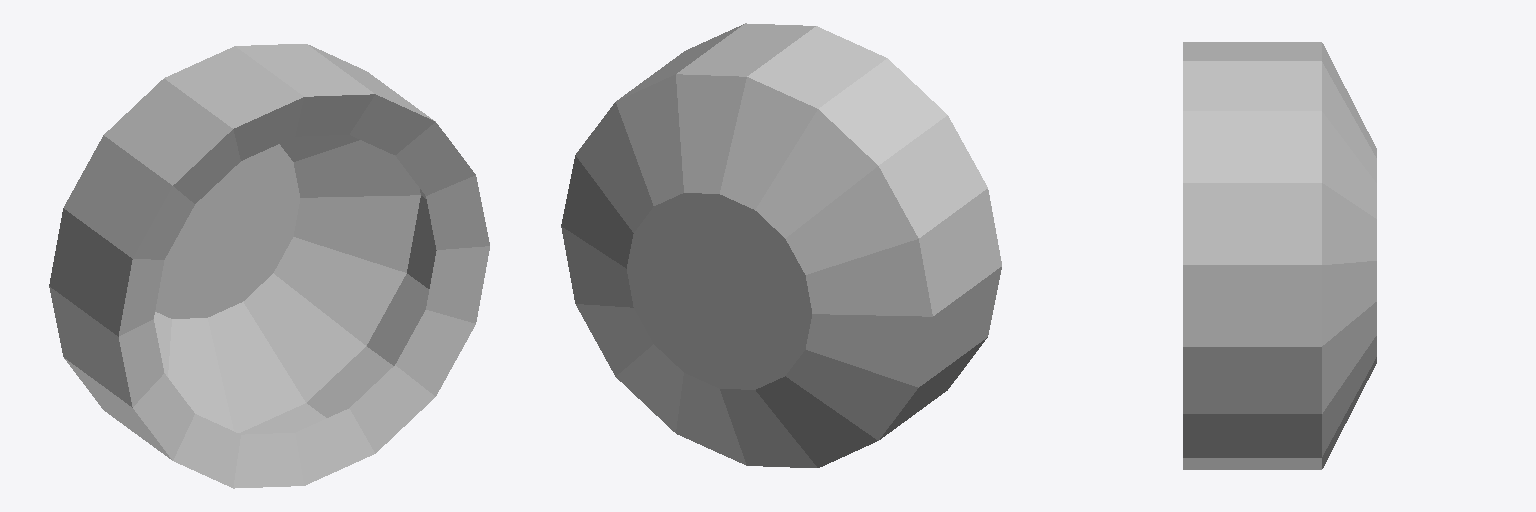
Rendered from housing.obj.
3 renders of one model, left to right at view 1: azimuth 30°, elevation 25°; view 2: azimuth 150°, elevation 25°; view 3: azimuth 270°, elevation 25°, orthographic.
Parts seen in each view (by area): view 1: Cylinder.005_Cylinder.014; view 2: Cylinder.005_Cylinder.014; view 3: Cylinder.005_Cylinder.014.
Part boxes in pixels (x1,y1,x2,y2): Cylinder.005_Cylinder.014: (49,44,489,488); Cylinder.005_Cylinder.014: (561,23,1001,467); Cylinder.005_Cylinder.014: (1183,42,1376,469).
Bounding box in the file's own units: 3.28 × 3.28 × 1.48.